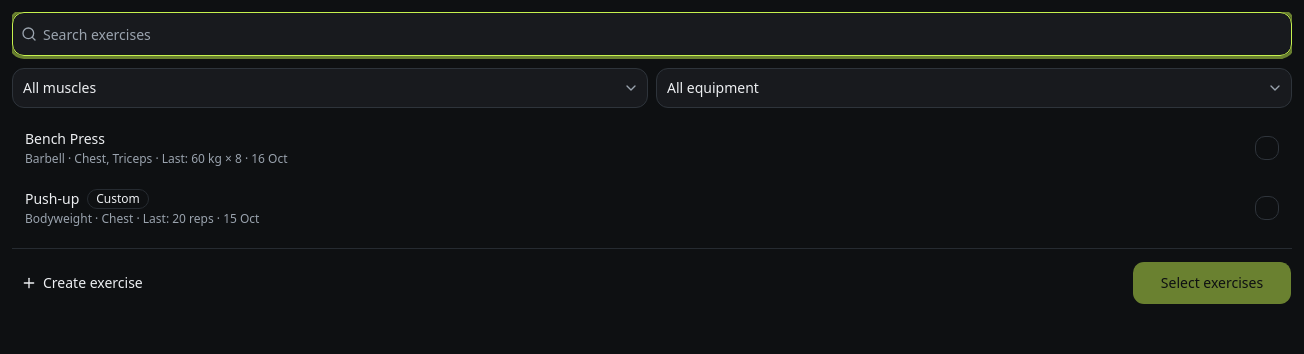
Test case: ExercisePicker › goes back to the search from the create form
The width and height of the screenshot is (1304, 354).
Step 1. Click the button "Create exercise" → (83, 283), box [12,263,154,303]
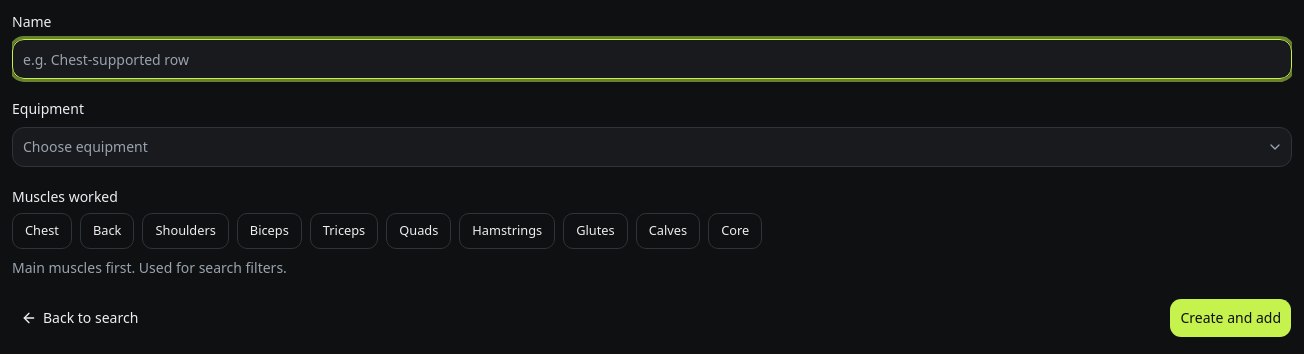
Step 2. Click the button "Back to search" → (81, 318), box [12,298,149,338]
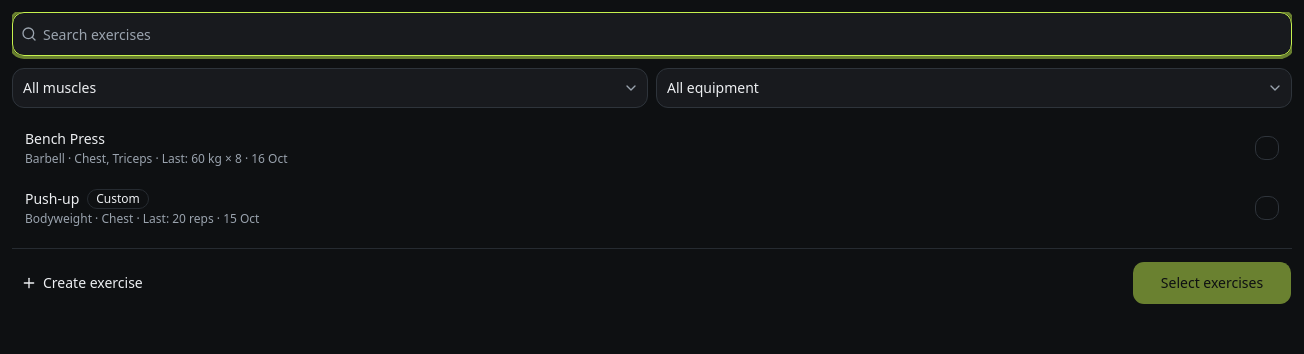
Now the search field labelled "Search exercises" is shown, box [37,18,1291,50]
